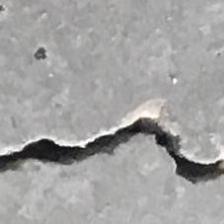Crack: (0, 101, 224, 196)
